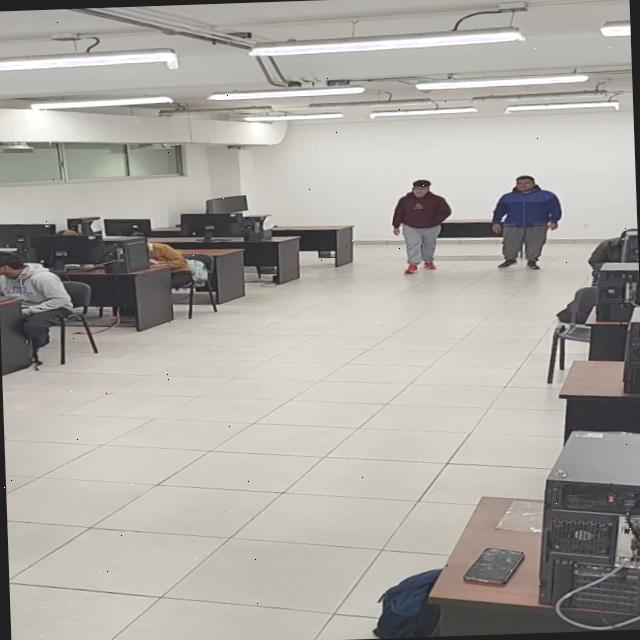Persona: (489, 174, 564, 271), (390, 178, 453, 274)
